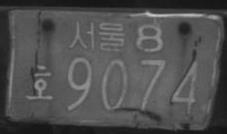0: (100, 57, 129, 113)
4: (169, 57, 200, 115)
7: (137, 57, 166, 111)
8: (134, 23, 164, 53)
9: (64, 56, 94, 111)
서울_O: (67, 19, 126, 53)
호: (24, 63, 54, 101)
